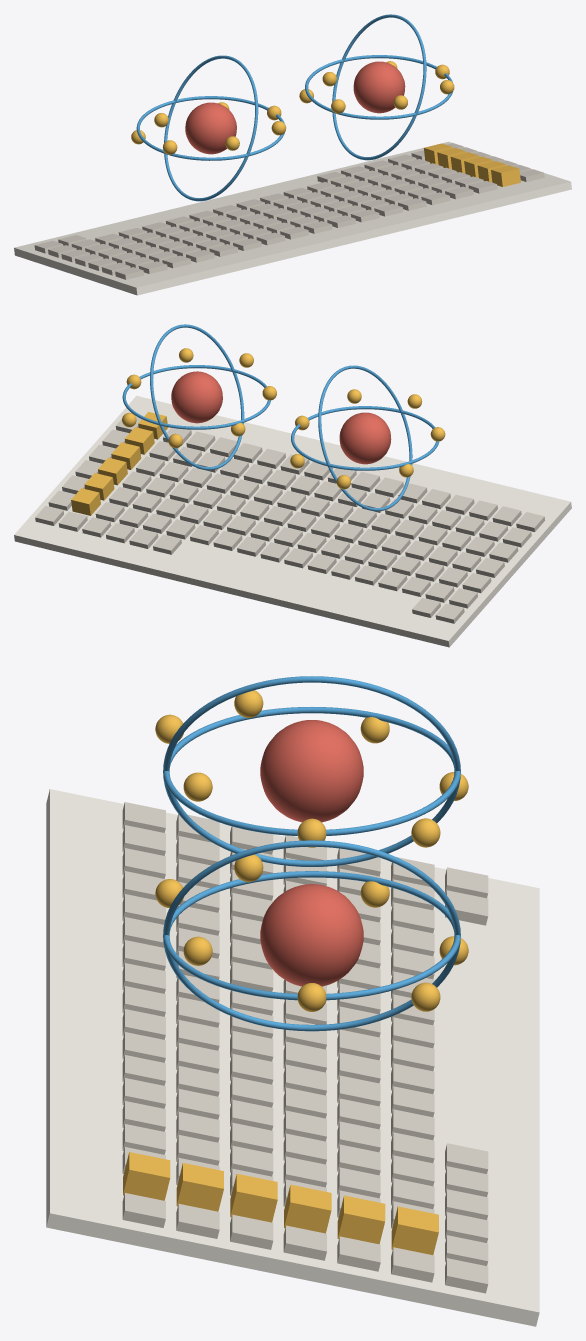
Rendered from chem-periodic-group.glb.
The picture shows the model from 3 angles, top to bottom: view 1: azimuth 30°, elevation 25°; view 2: azimuth 150°, elevation 25°; view 3: azimuth 270°, elevation 25°; orthographic projection. The views are drawn at different scales.
Parts seen in each view (by area): view 1: table-backing, nucleus (×2), shell-y (×2), shell-x (×2), highlight-cell-17-7; view 2: table-backing, nucleus (×2), shell-y (×2), shell-x (×2), highlight-cell-17-2, highlight-cell-17-5, highlight-cell-17-3, highlight-cell-17-6, highlight-cell-17-4, highlight-cell-17-7; view 3: table-backing, nucleus (×2), shell-y (×2), shell-x (×2), highlight-cell-17-3, highlight-cell-17-4, highlight-cell-17-6, highlight-cell-17-7, highlight-cell-17-5, highlight-cell-17-2, cell-18-1, cell-18-3 (+71 smaller).
Boxes of the visible parts, x1,y1,x2,y2 form: table-backing: (14, 141, 571, 295); nucleus (×2): (185, 61, 405, 154); shell-y (×2): (164, 14, 426, 201); shell-x (×2): (136, 55, 452, 160); highlight-cell-17-7: (491, 165, 520, 186); table-backing: (14, 395, 571, 647); nucleus (×2): (171, 371, 391, 464); shell-y (×2): (150, 324, 412, 511); shell-x (×2): (122, 365, 439, 470); highlight-cell-17-2: (71, 488, 100, 515); highlight-cell-17-5: (111, 442, 141, 469); highlight-cell-17-3: (84, 473, 114, 500); highlight-cell-17-6: (125, 427, 154, 454); highlight-cell-17-4: (98, 457, 127, 485); highlight-cell-17-7: (138, 412, 168, 439); table-backing: (46, 789, 539, 1326); nucleus (×2): (260, 720, 363, 986); shell-y (×2): (163, 676, 460, 1031); shell-x (×2): (163, 707, 460, 1000); highlight-cell-17-3: (337, 1195, 385, 1244); highlight-cell-17-4: (284, 1184, 331, 1233); highlight-cell-17-6: (176, 1163, 223, 1211); highlight-cell-17-7: (123, 1152, 170, 1200); highlight-cell-17-5: (230, 1174, 277, 1222); highlight-cell-17-2: (391, 1206, 438, 1254); cell-18-1: (445, 1258, 488, 1293); cell-18-3: (337, 1236, 380, 1271).
Size of what is drawn, in the model's own units: 3.1 by 1.33 by 1.52.
